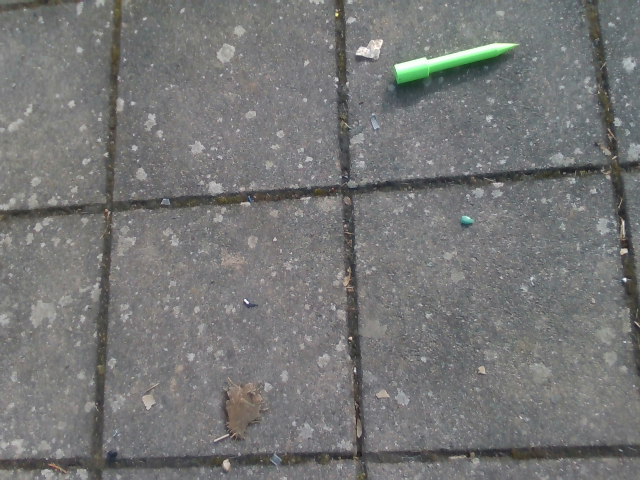Probe: (389, 35, 524, 89)
